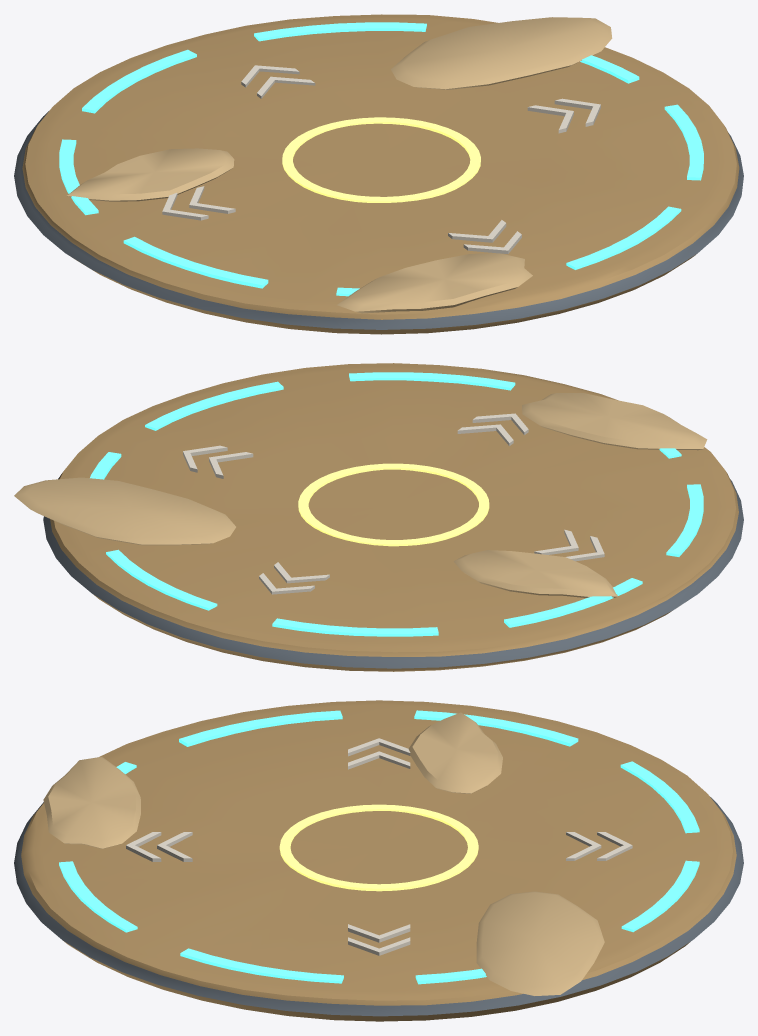
Rendered from deco_landing_pad.fbx.
3 renders of one model, top to bottom at view 1: azimuth 30°, elevation 25°; view 2: azimuth 150°, elevation 25°; view 3: azimuth 270°, elevation 25°, orthographic. The views are drawn at different scales.
Visible parts, largest first — view 1: LandingPad_Pad, LandingPad_SandDrifts, LandingPad_Markings; view 2: LandingPad_Pad, LandingPad_SandDrifts, LandingPad_Markings; view 3: LandingPad_Pad, LandingPad_SandDrifts, LandingPad_Markings.
Boxes of the visible parts, <box> form: LandingPad_Pad: <box>14,14,743,334</box>; LandingPad_SandDrifts: <box>67,17,612,313</box>; LandingPad_Markings: <box>59,22,703,296</box>; LandingPad_Pad: <box>43,363,743,671</box>; LandingPad_SandDrifts: <box>14,393,707,597</box>; LandingPad_Markings: <box>90,372,703,636</box>; LandingPad_Pad: <box>14,700,743,1021</box>; LandingPad_SandDrifts: <box>43,712,604,995</box>; LandingPad_Markings: <box>59,710,699,984</box>.
Bounding box in the file's own units: 819 × 36.5 × 821.
